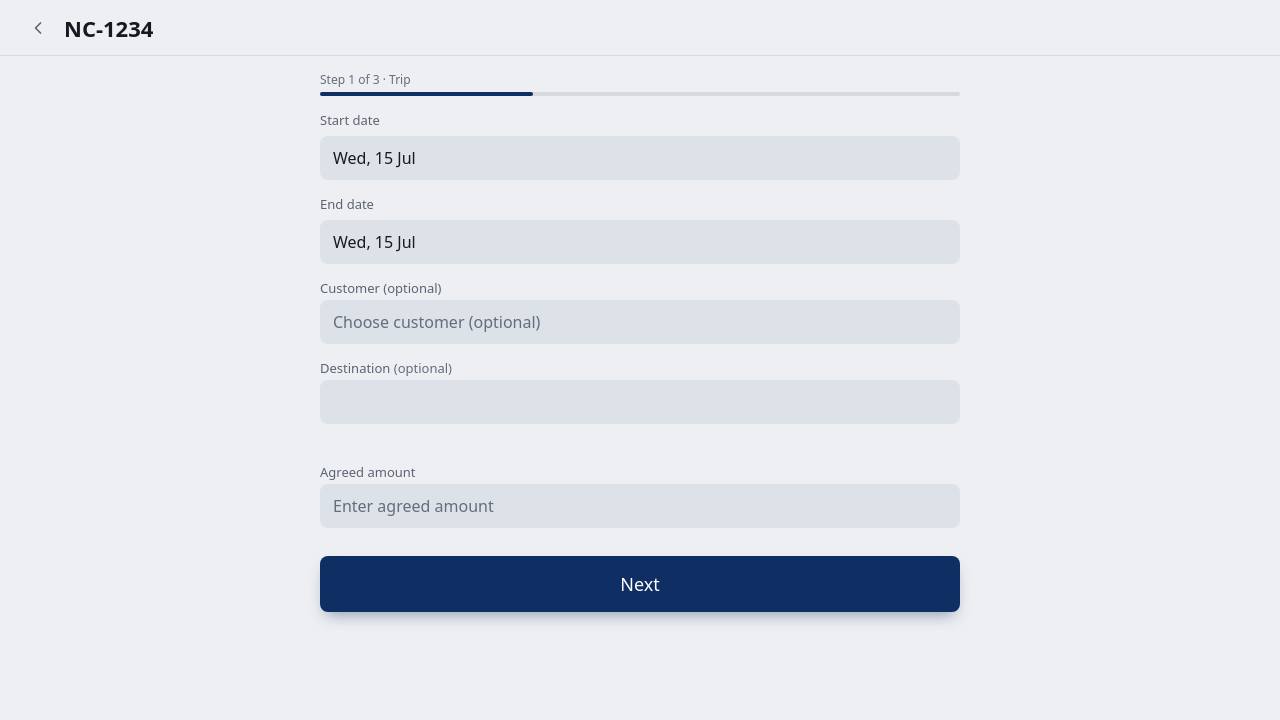
Test case: a paperwork warning for this vehicle shows on the confirm step (F-10.1)
Click the button "Next". click: (640, 584)
box: [320,556,960,612]
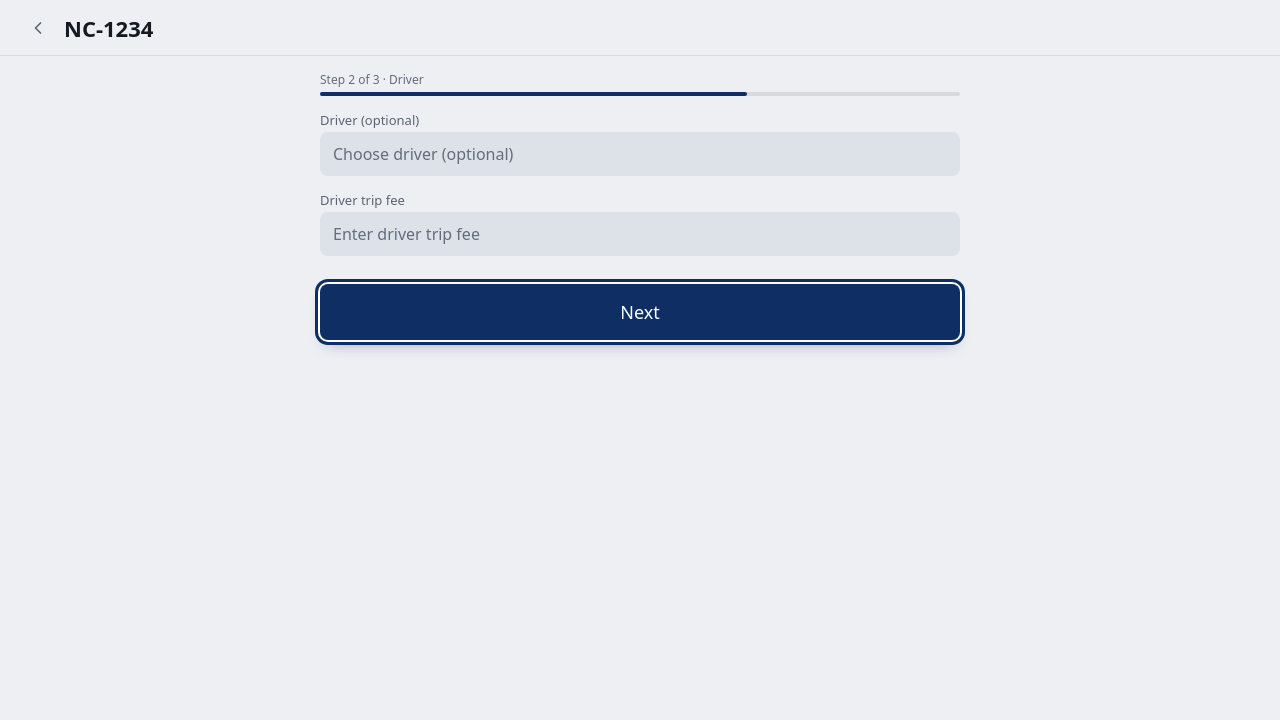
Click the button "Next". click: (640, 312)
box: [320,284,960,340]
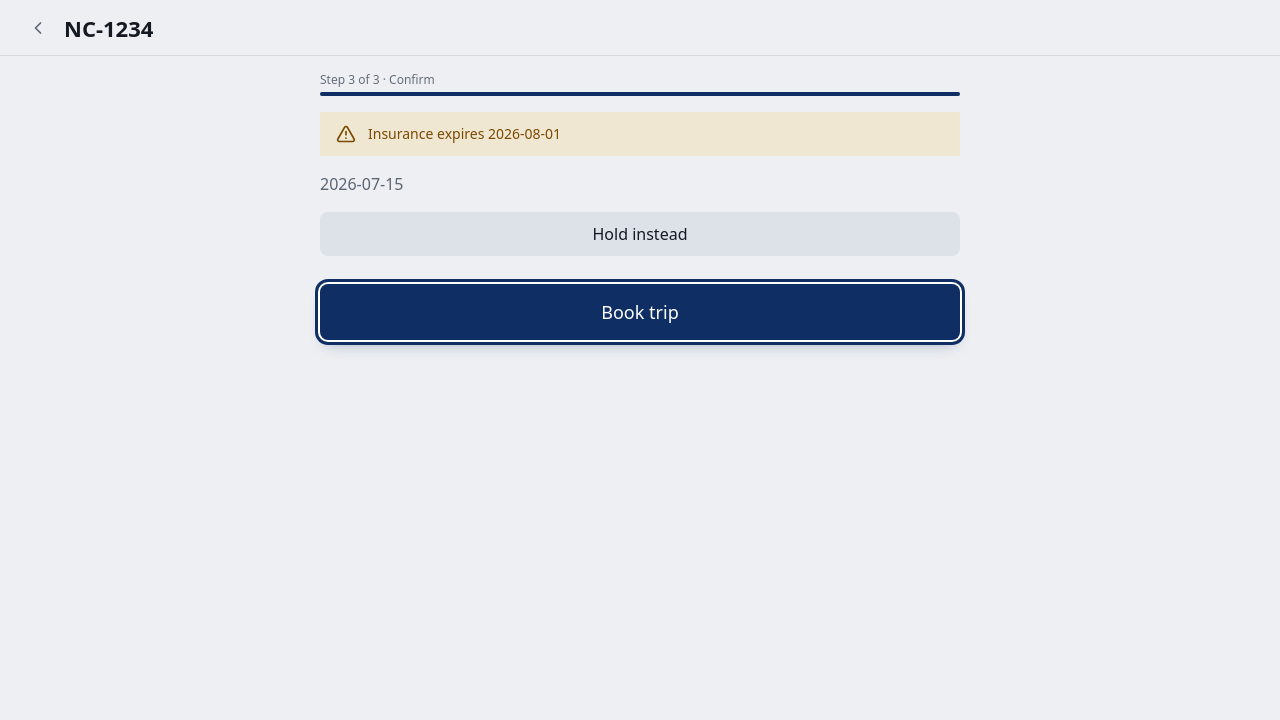
Expected: the text "Insurance expires 2026-08-01" is shown, [368,124,561,143]
